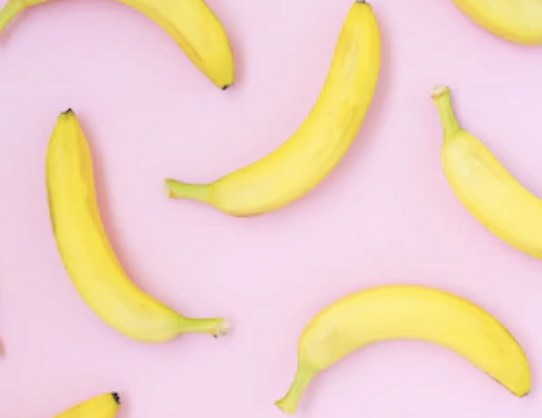fresh_banana: (169, 4, 383, 212), (43, 107, 218, 344), (284, 287, 534, 404), (4, 1, 229, 88), (432, 91, 542, 258)
